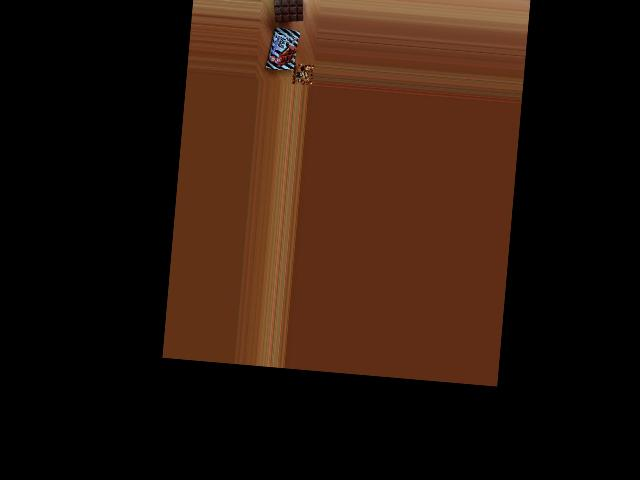chocolate: (266, 25, 299, 73)
